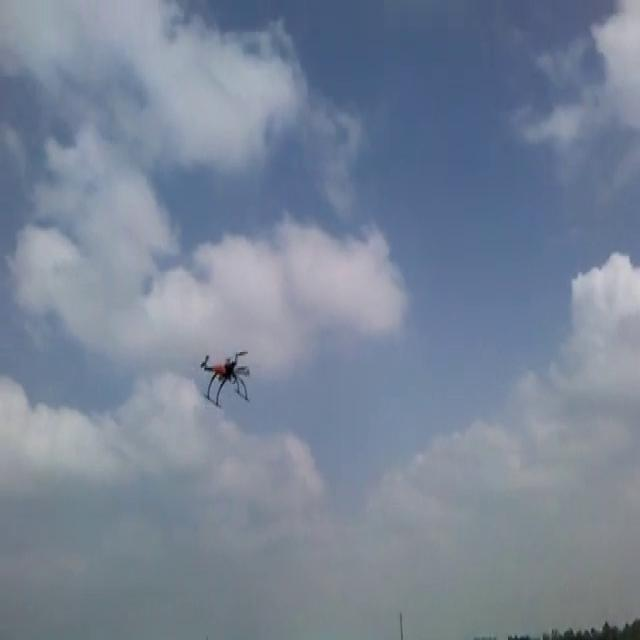drone: (199, 343, 250, 407)
